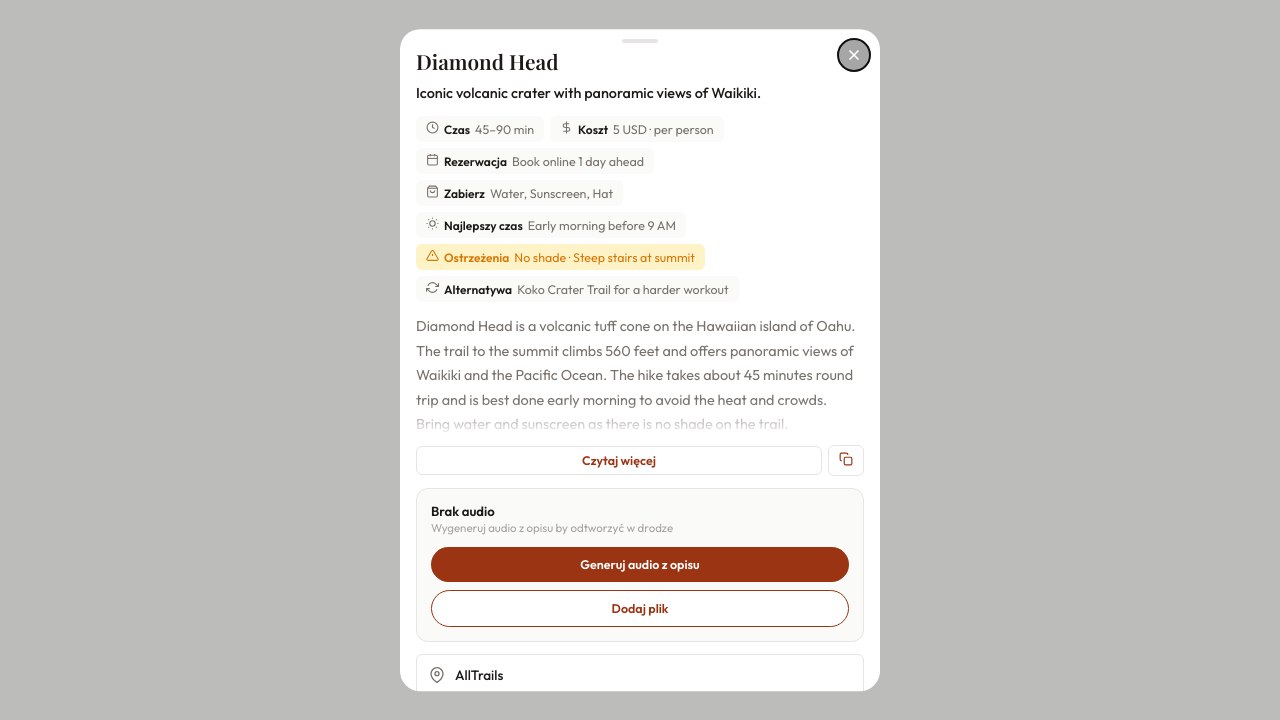
StopDetail › toggles description expansion
What coordinates should you click on to do the following:
click the button "Czytaj więcej"
I would click on:
 (619, 460)
Its box is [416, 446, 822, 475].
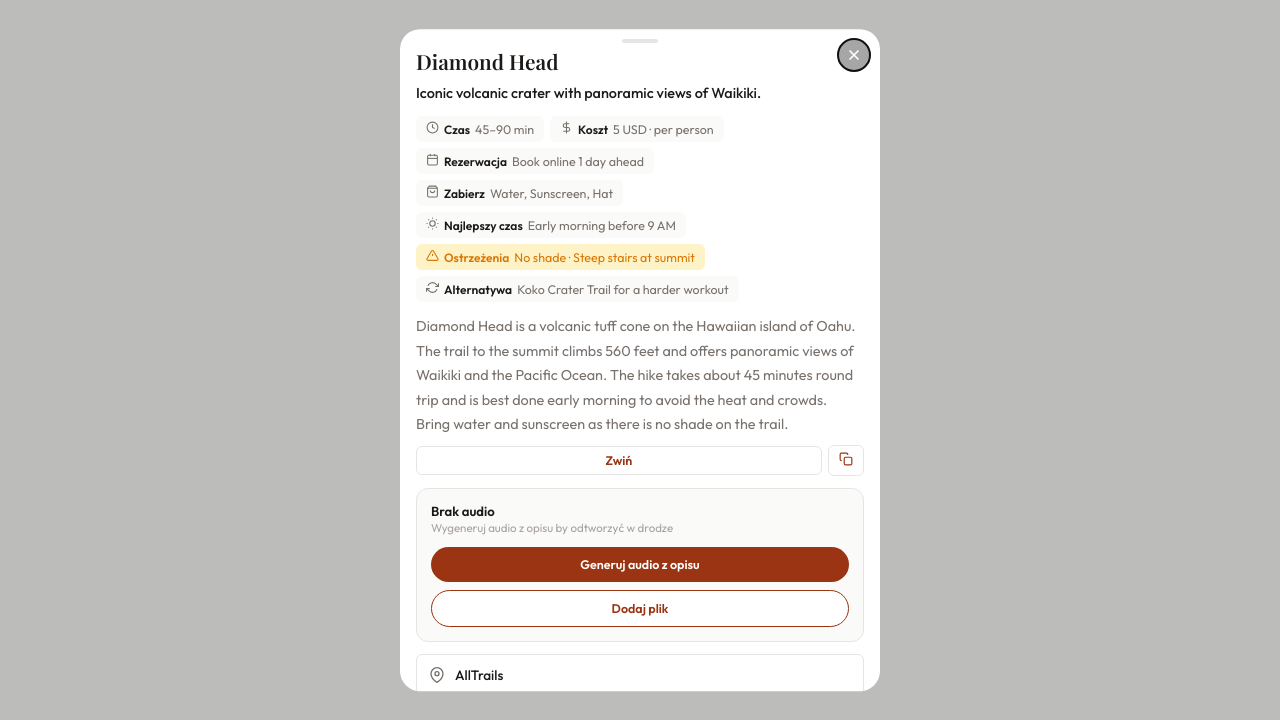
Expected: the button "Zwiń" is shown
What coordinates should you click on to do the following:
click the button "Zwiń"
I would click on:
 (619, 460)
Its box is [416, 446, 822, 475].
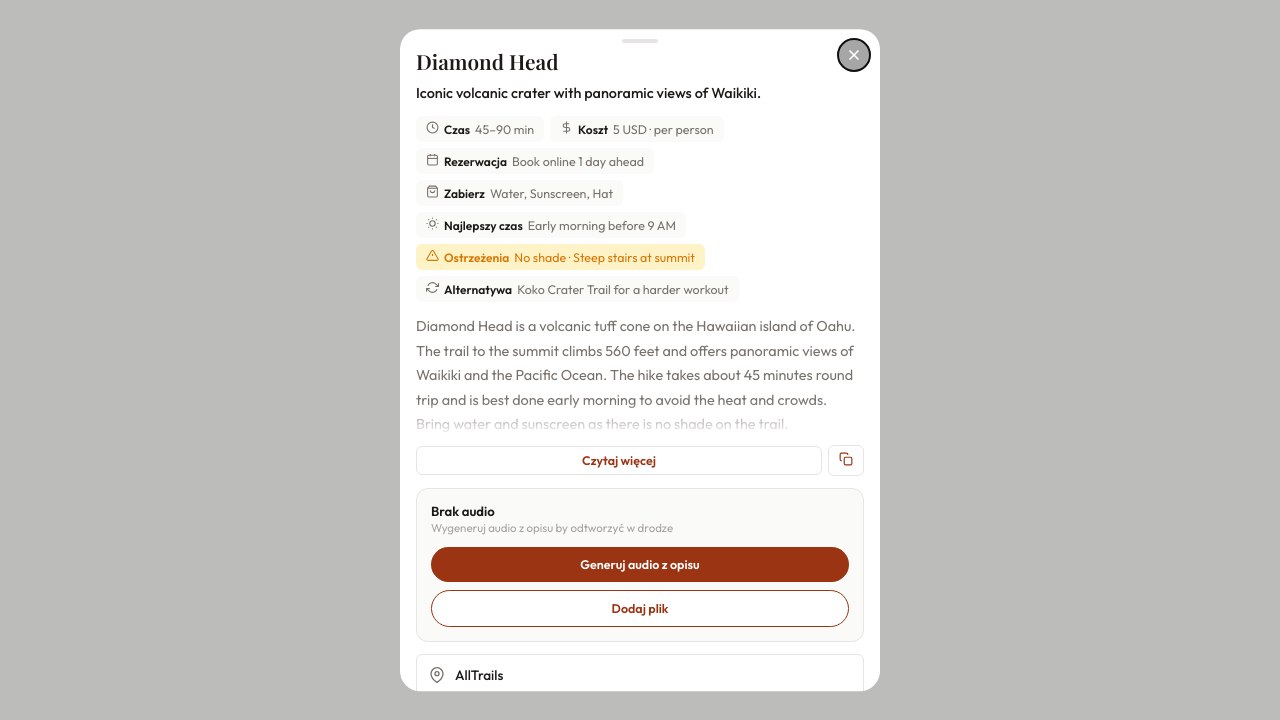
Expected: the button "Czytaj więcej" is shown, [416, 446, 822, 475]
